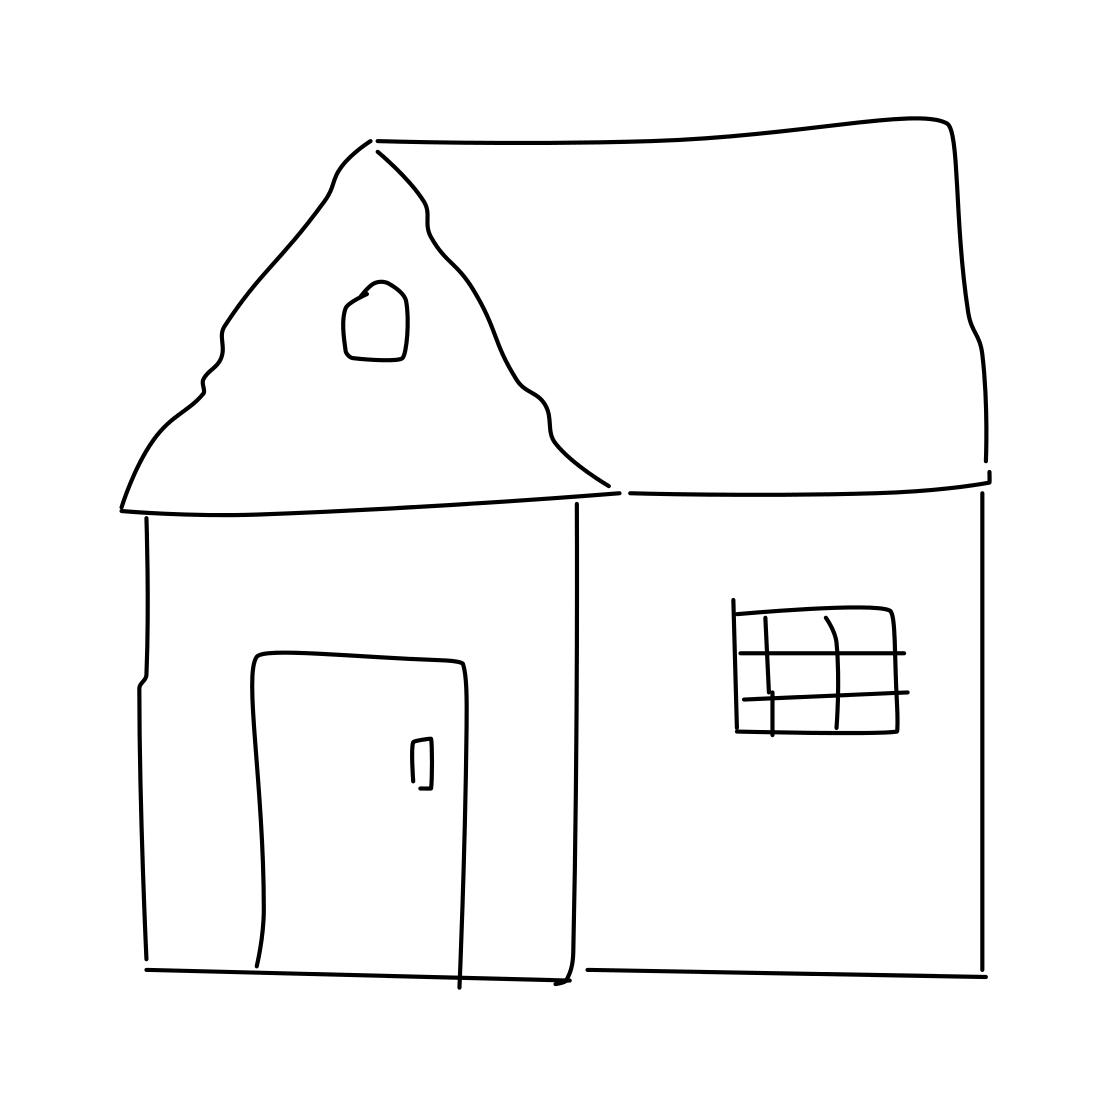House: (49, 87, 1021, 1007)
